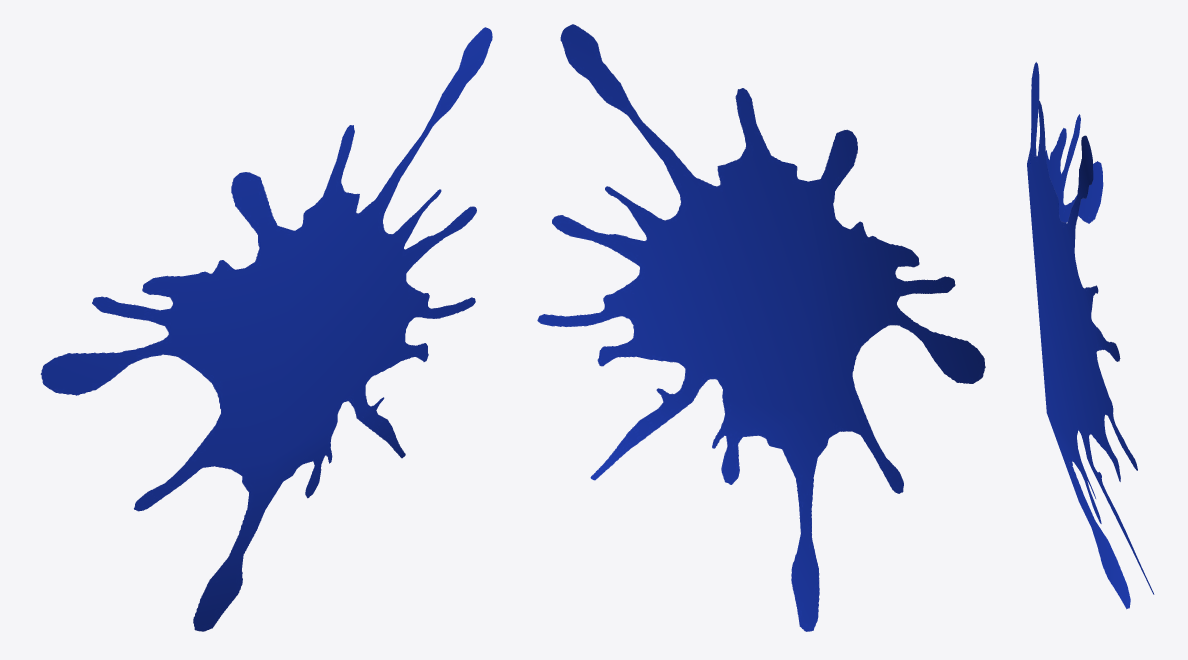
The model's file is INK.fbx.
The picture shows the model from 3 angles, left to right: view 1: azimuth 30°, elevation 25°; view 2: azimuth 150°, elevation 25°; view 3: azimuth 270°, elevation 25°; orthographic projection. The views are drawn at different scales.
Visible parts, largest first — view 1: Bandage; view 2: Bandage; view 3: Bandage.
Boxes of the visible parts, x1,y1,x2,y2 form: Bandage: (40,27,492,631); Bandage: (537,24,985,631); Bandage: (1027,62,1154,609).
Bounding box in the file's own units: 8.33 × 9.84 × 2.15.
